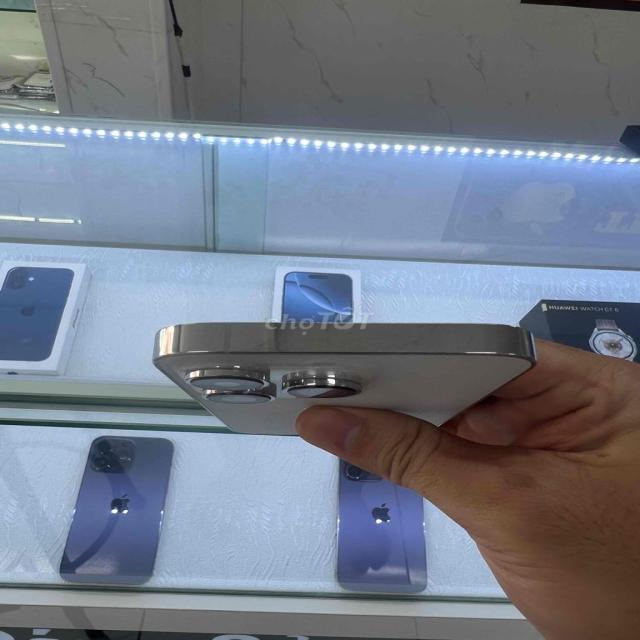gen_14: (142, 304, 556, 466)
